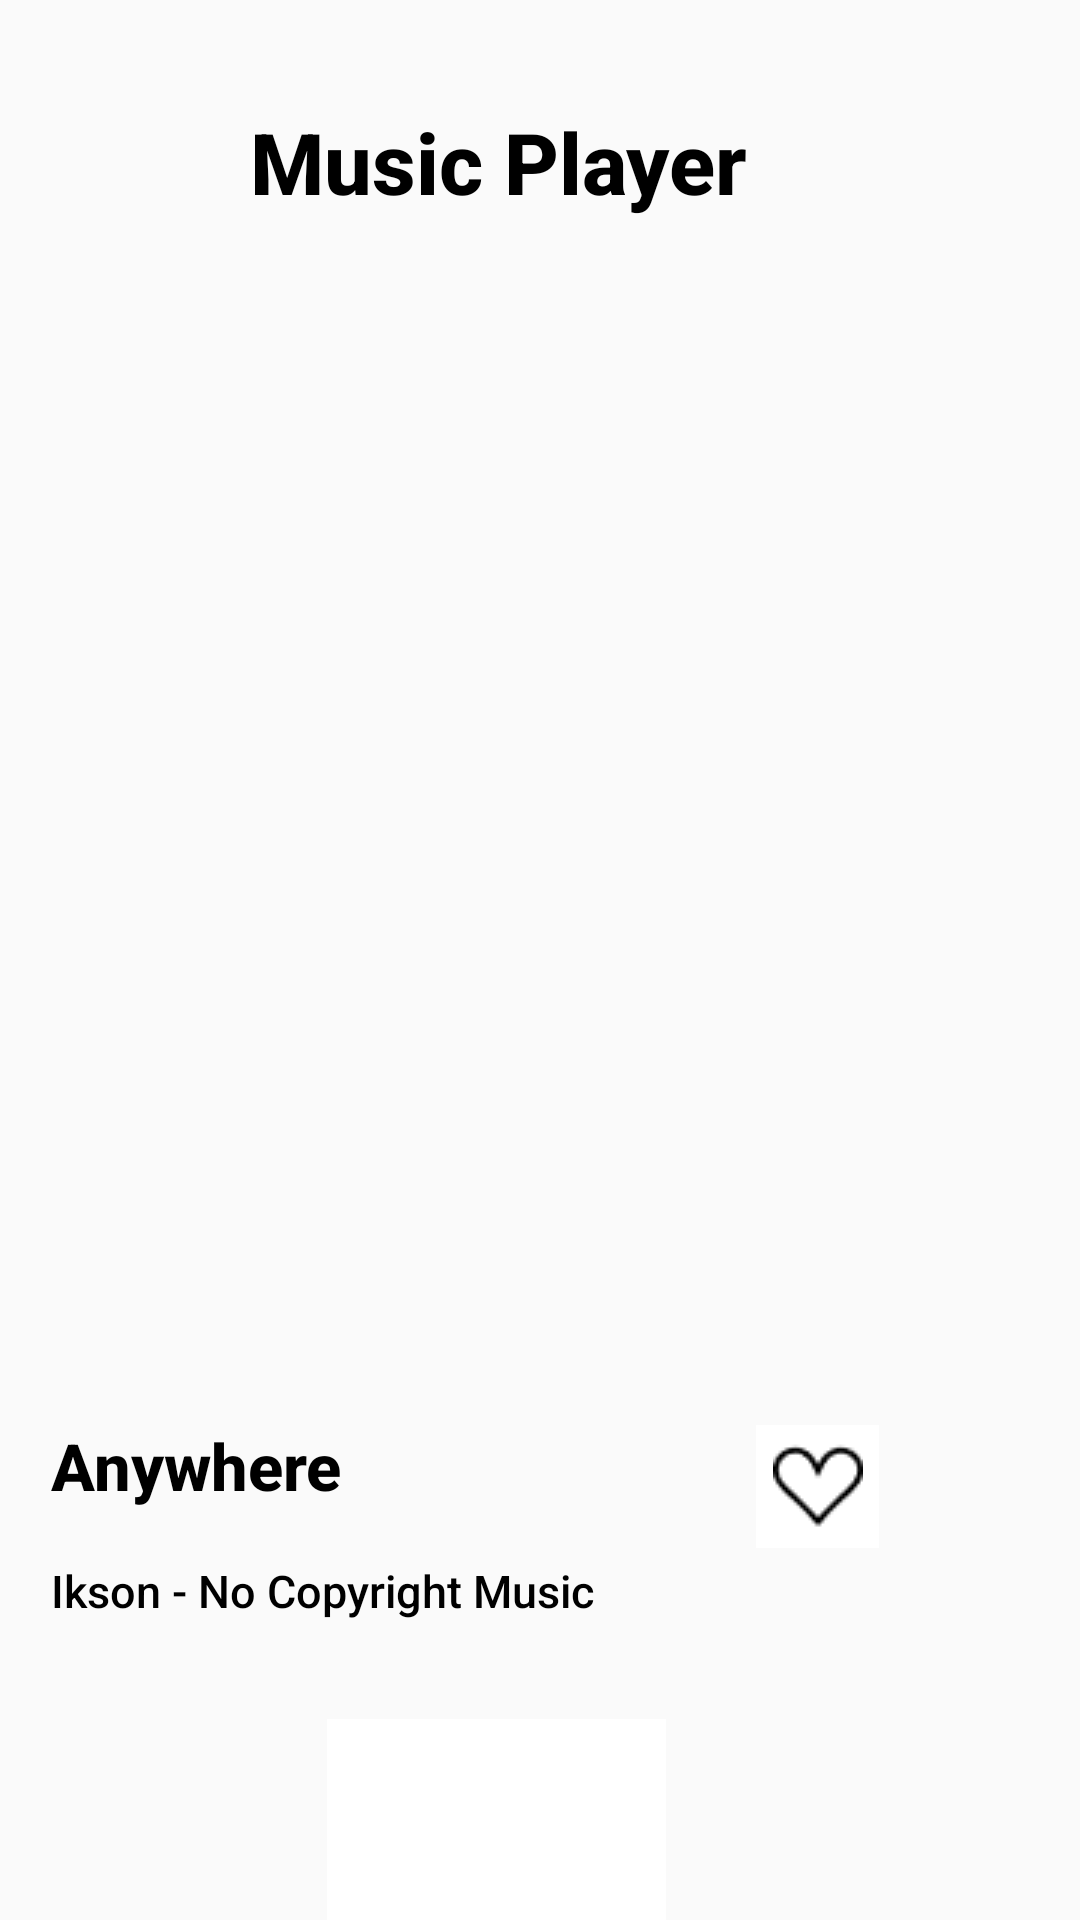

Named icons in this screenshot (1080x1920) and their centers, point (x, y):
whiteheart: point (818, 1486)
